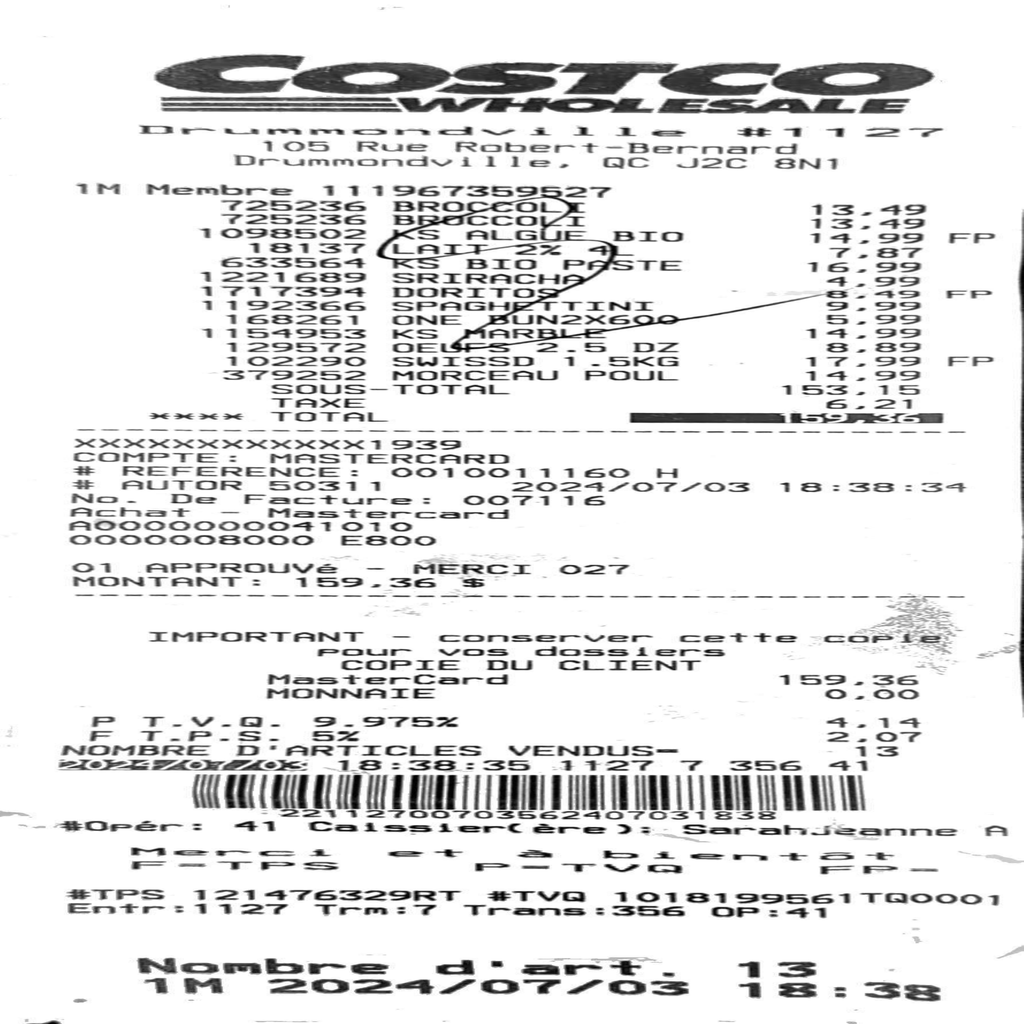recipt: (2, 0, 1020, 1018)
